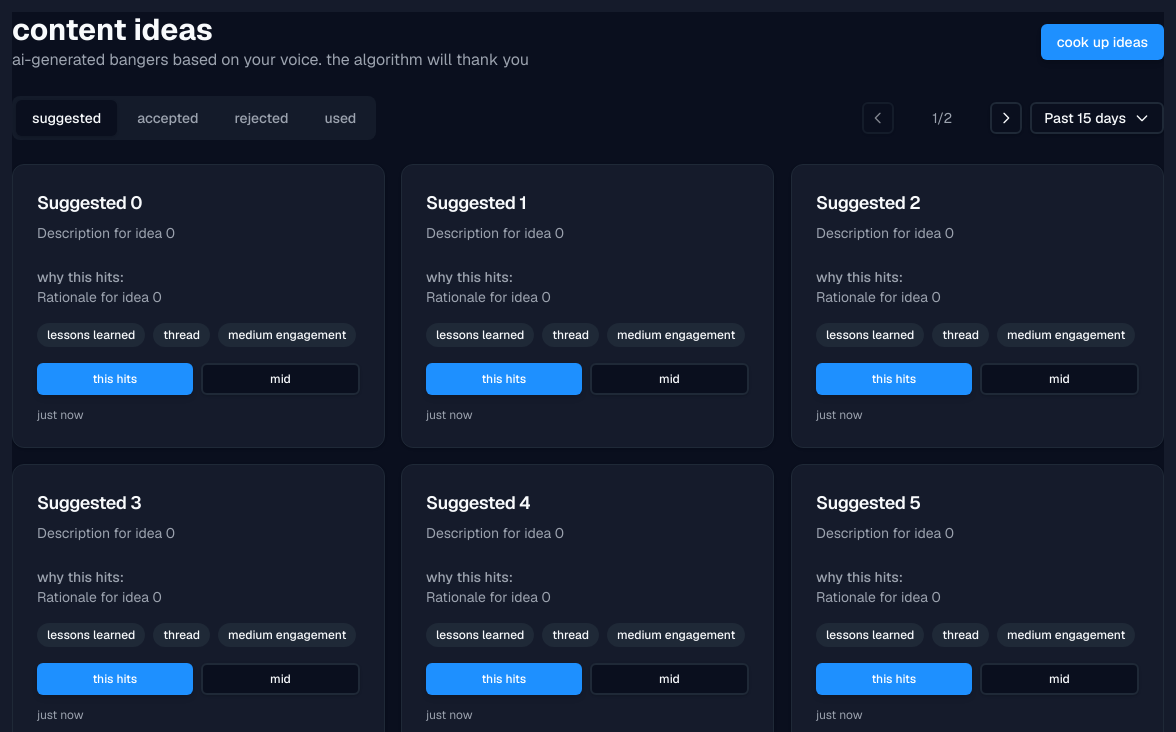
Test case: Ideas Dashboard - Pagination Integration › Pagination with Filtering › should paginate filtered results correctly
Check: the text "1/2" is shown, box [932, 109, 952, 127]
Click the button "accepted" at point(168, 118), box [121, 100, 214, 136]
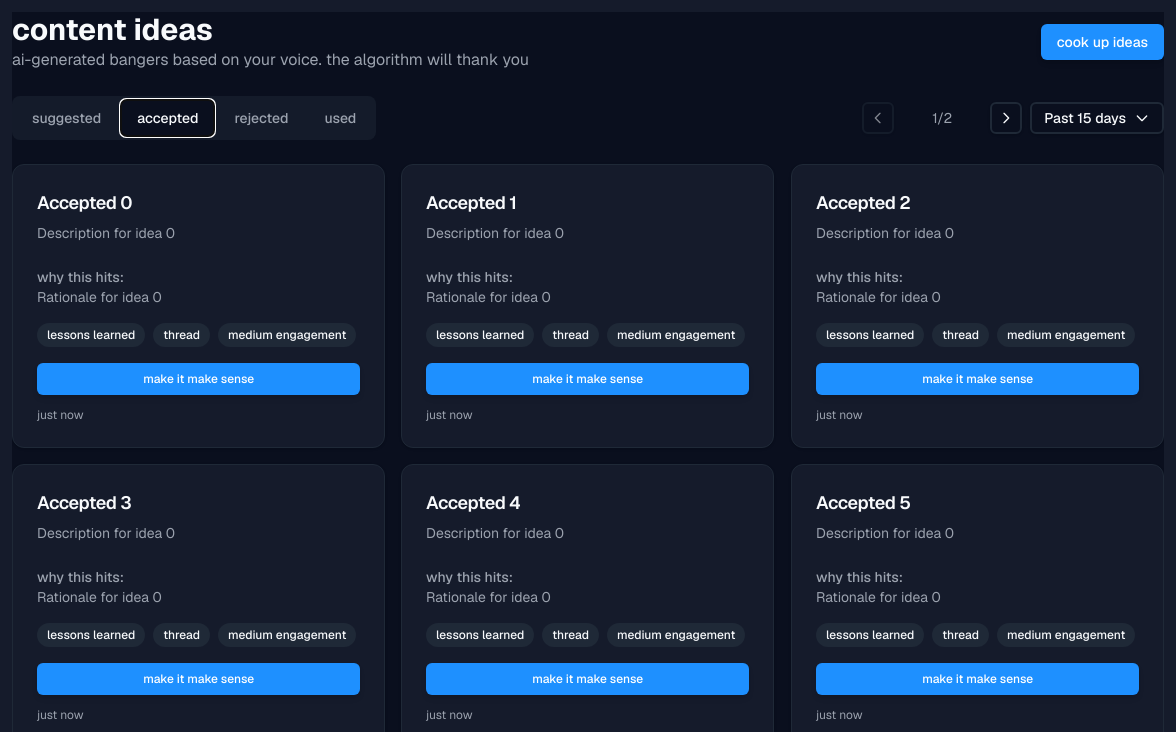
Check: the text "1/2" is shown, box [932, 109, 952, 127]
Check: the heading "Accepted 0" is shown, box [37, 191, 132, 214]
